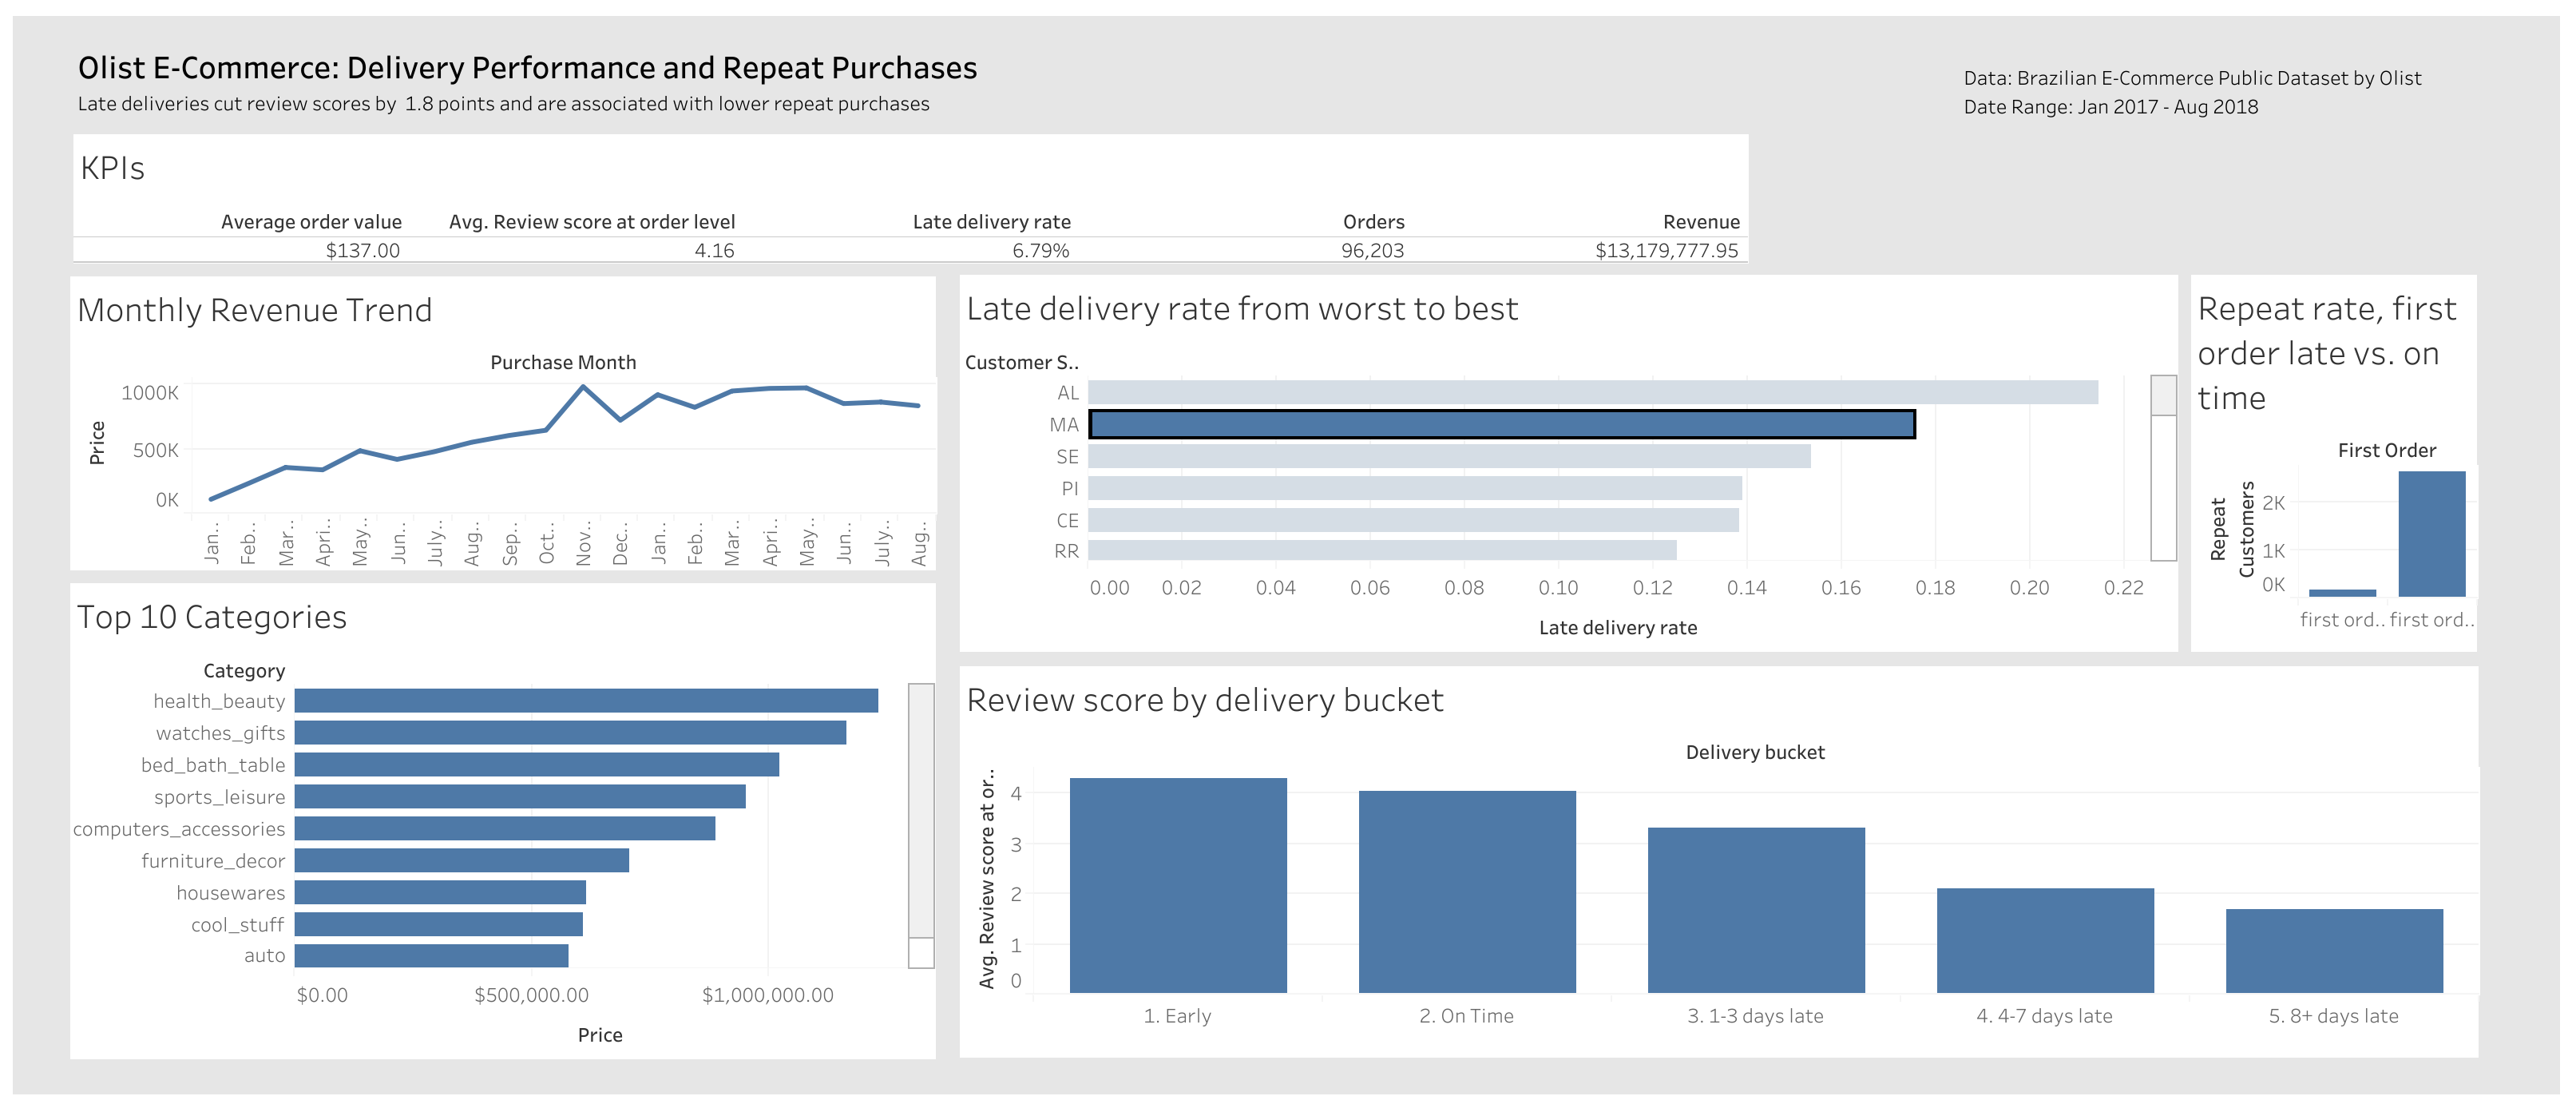

This screenshot's page, from the dashboard's own definition file:
{"tool":"tableau","page":{"name":"Dash1","canvas":[1000,1000],"units":"permille","ordinal":0},"visuals":[{"type":"text","box":[28.6,37.2,388,43.2]},{"type":"text","box":[760.4,54,199.5,56.4]},{"type":"text","box":[28.6,79.1,391.4,25.2]},{"type":"worksheet","title":"KPIS","mark":"Automatic","box":[27.9,121.1,437,117.5]},{"type":"worksheet","title":"Late rate by states","mark":"Automatic","rows":["customer_state"],"cols":["Calculation_0745945481564164"],"box":[369.6,243.4,467,352.5]},{"type":"worksheet","title":"Repeat Rate","mark":"Automatic","rows":["repeat_customers"],"cols":["first_order"],"box":[836.6,243.4,126.6,352.5]},{"type":"worksheet","title":"Monthly Revenue","mark":"Automatic","rows":["price"],"cols":["purchase_month"],"box":[24.5,244.6,341.1,352.5]},{"type":"worksheet","title":"Top 10 Categories","mark":"Automatic","rows":["category"],"cols":["price"],"box":[24.5,597.1,341.1,366.9]},{"type":"worksheet","title":"Review by delivery bucket","mark":"Automatic","rows":["review_score"],"cols":["Calculation_0745945482518533"],"box":[369.6,597.1,594.3,365.7]}]}

Visuals, with their boxes on the dashboard's canvas, which has no fixed pixel size, in thousandths of its width and height (x1, y1, x2, y2). These are canvas units, not pixel positions in the 2576x1104 screenshot, which may show the page scaled, cropped or inside an application window:
text: locate(29, 37, 417, 80)
text: locate(760, 54, 960, 110)
text: locate(29, 79, 420, 104)
"KPIS" worksheet: locate(28, 121, 465, 239)
"Late rate by states" worksheet: locate(370, 243, 837, 596)
"Repeat Rate" worksheet: locate(837, 243, 963, 596)
"Monthly Revenue" worksheet: locate(24, 245, 366, 597)
"Top 10 Categories" worksheet: locate(24, 597, 366, 964)
"Review by delivery bucket" worksheet: locate(370, 597, 964, 963)
